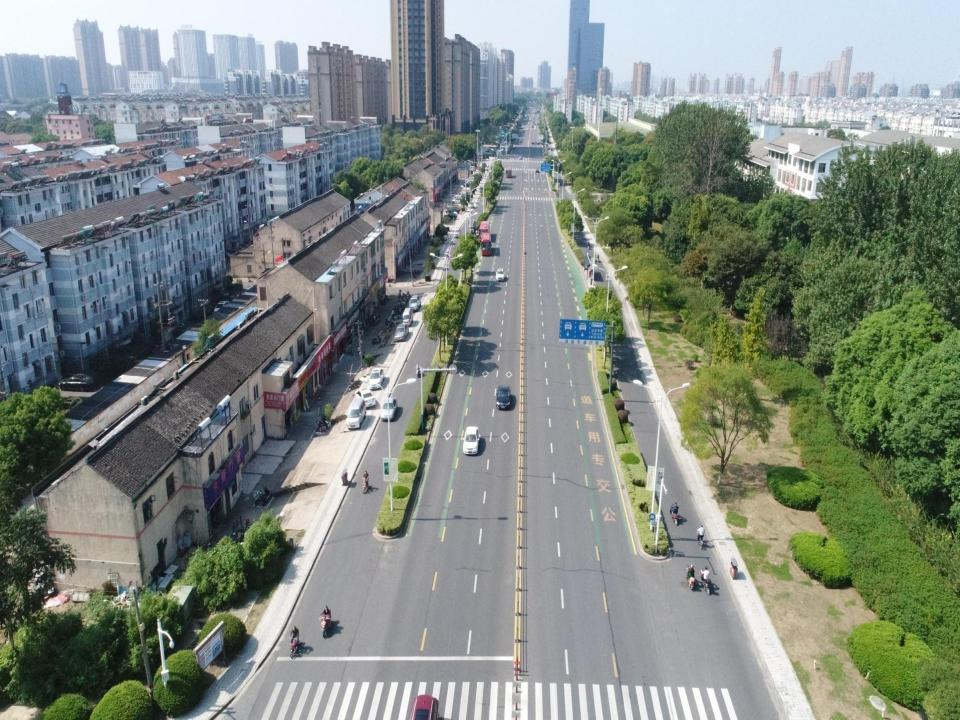bus: (481, 232, 491, 256), (478, 221, 487, 239), (506, 166, 511, 178)
car: (410, 691, 437, 719), (461, 423, 479, 457), (367, 366, 384, 391), (379, 397, 396, 421), (357, 386, 376, 407), (496, 385, 511, 410), (393, 324, 408, 343), (496, 266, 505, 281), (444, 209, 456, 218), (447, 204, 460, 211), (451, 198, 465, 204), (466, 177, 476, 184), (466, 179, 474, 187), (453, 194, 463, 200), (534, 167, 539, 174), (519, 155, 523, 161), (536, 139, 539, 144), (532, 142, 534, 144)
van: (346, 393, 366, 433), (401, 307, 413, 325), (408, 292, 418, 312), (454, 228, 460, 238)
